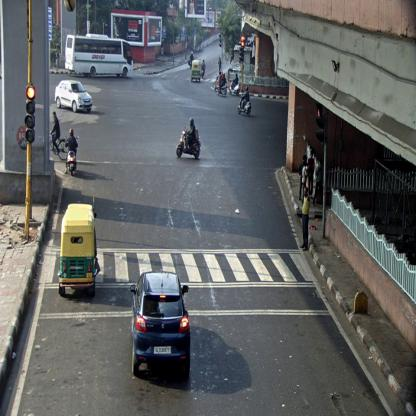bus: (63, 31, 133, 78)
car: (131, 272, 191, 381), (55, 78, 93, 115)
motorcycle: (175, 118, 202, 160), (49, 110, 67, 160), (66, 129, 77, 177), (237, 86, 252, 117), (229, 72, 241, 96), (218, 72, 226, 98), (201, 58, 205, 78)
